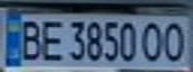0: (118, 19, 139, 63)
3: (63, 17, 87, 63)
5: (103, 18, 121, 63)
8: (84, 18, 106, 63)
B: (15, 17, 45, 63)
E: (36, 17, 66, 63)
O: (139, 19, 169, 63), (160, 19, 190, 63)
